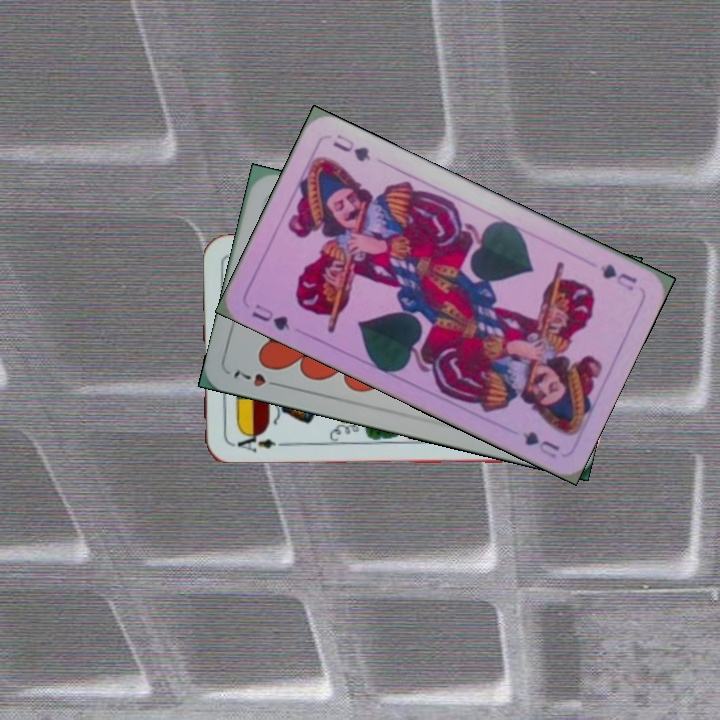EA: (227, 427, 278, 454)
GU: (596, 259, 640, 294), (248, 300, 293, 334)
H7: (229, 366, 286, 390)
